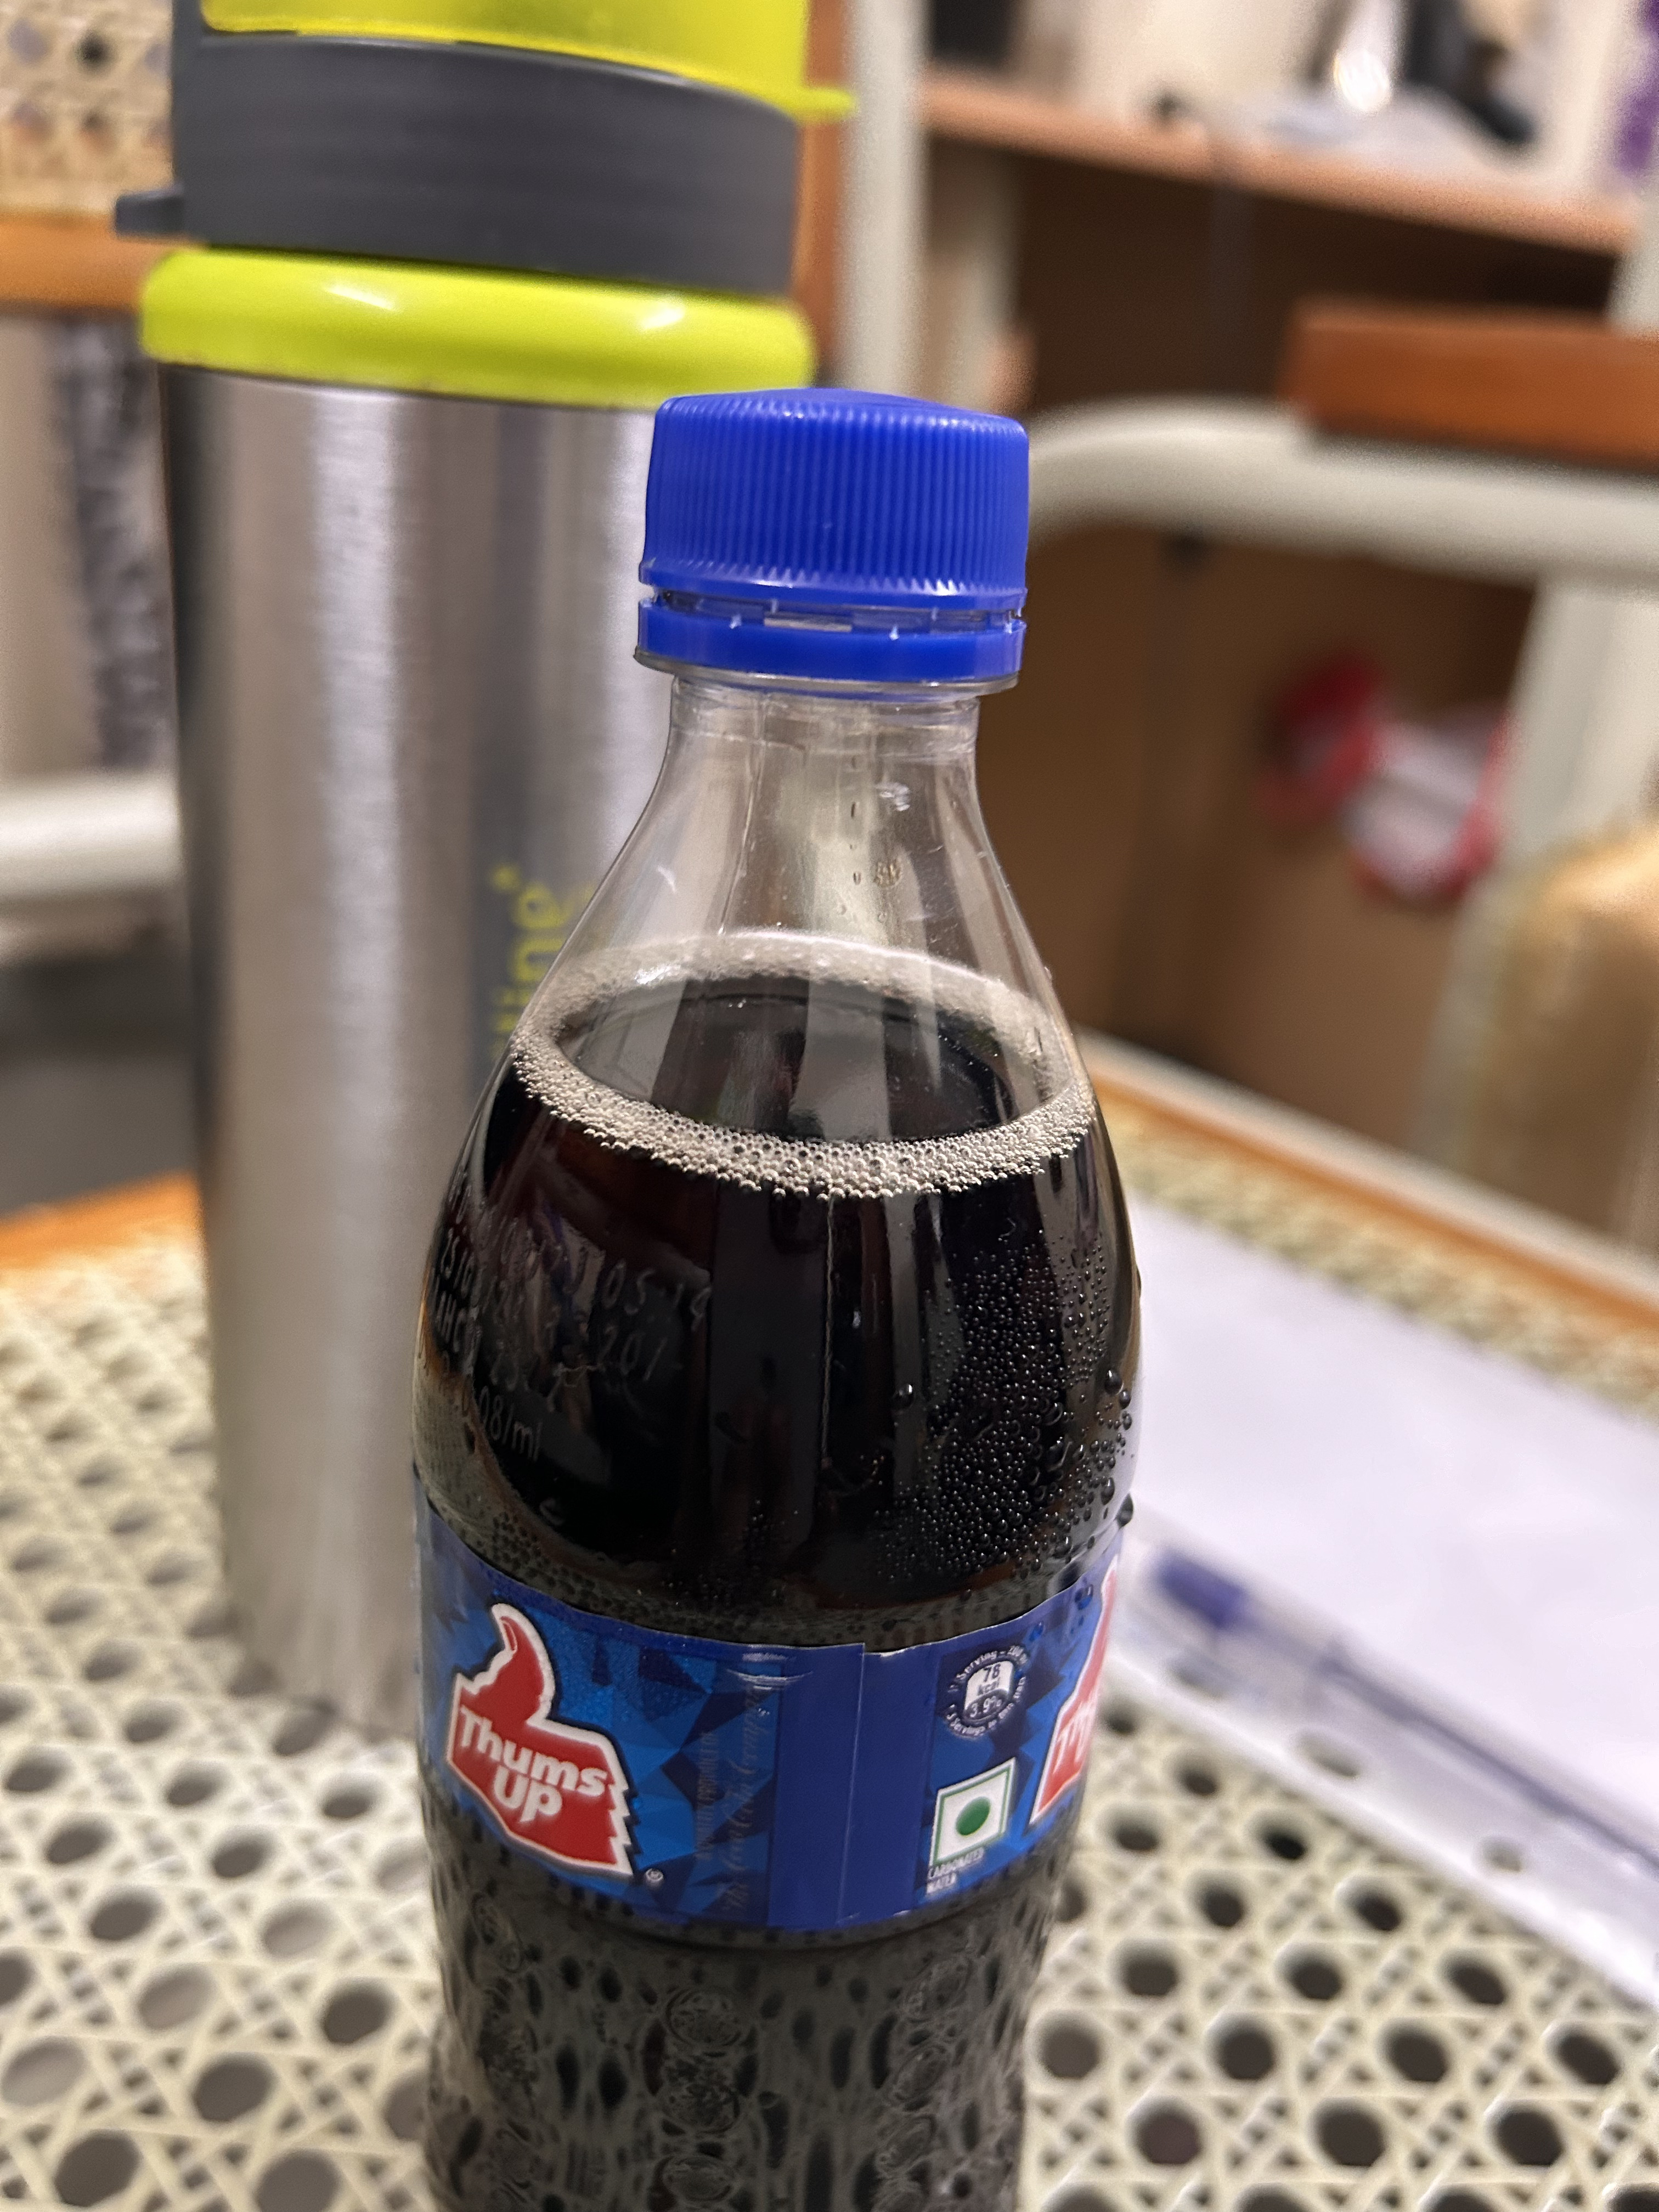unsealed: (575, 334, 1054, 1198)
